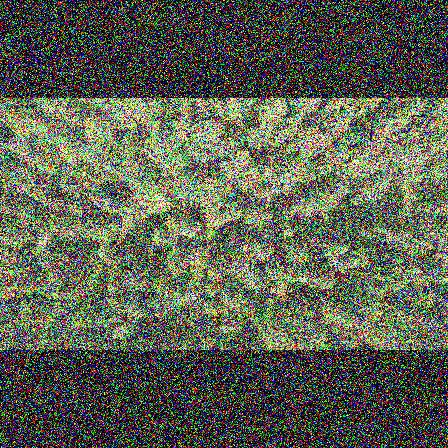Sick: (35, 251, 62, 276), (35, 277, 63, 301)
